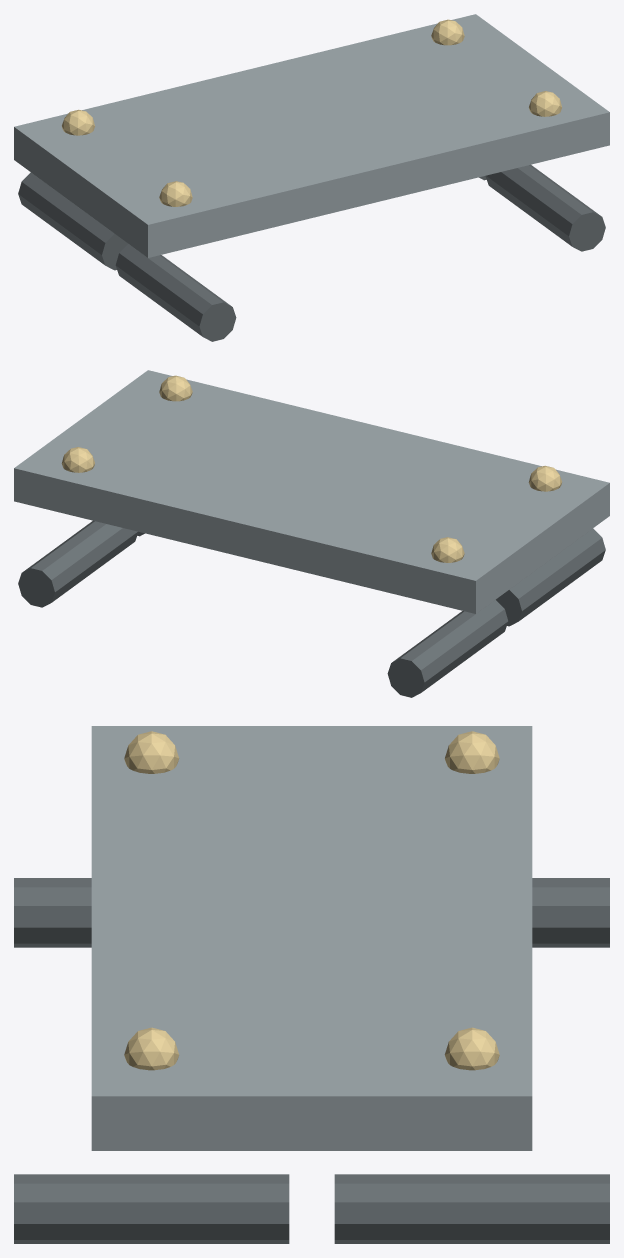
File: industrial_coffee_table.glb
3 views of the same model, one above another, from view 1: azimuth 30°, elevation 25°; view 2: azimuth 150°, elevation 25°; view 3: azimuth 270°, elevation 25° (orthographic). The views are drawn at different scales.
Visible parts, largest first — view 1: part_00, part_02, part_04, part_01, part_07, part_05, part_08, part_06; view 2: part_00, part_01, part_03, part_02, part_08, part_06, part_07, part_05; view 3: part_00, part_03, part_04, part_01, part_02, part_07, part_08, part_05, part_06.
Part boxes in pixels (<box>): part_00: <box>14,14,609,257</box>; part_02: <box>115,244,236,341</box>; part_04: <box>485,164,605,251</box>; part_01: <box>18,172,127,270</box>; part_07: <box>431,19,464,45</box>; part_05: <box>62,109,95,135</box>; part_08: <box>529,91,562,116</box>; part_06: <box>159,181,192,206</box>; part_00: <box>14,370,609,613</box>; part_01: <box>387,600,508,697</box>; part_03: <box>18,520,138,607</box>; part_02: <box>496,528,605,626</box>; part_08: <box>159,375,192,401</box>; part_06: <box>528,465,561,491</box>; part_07: <box>61,447,94,472</box>; part_05: <box>431,537,464,562</box>; part_00: <box>91,726,532,1150</box>; part_03: <box>334,1174,609,1243</box>; part_04: <box>14,1174,289,1243</box>; part_01: <box>532,878,609,947</box>; part_02: <box>14,878,91,947</box>; part_07: <box>444,1027,499,1070</box>; part_08: <box>124,1027,179,1070</box>; part_05: <box>444,731,499,773</box>; part_06: <box>124,731,179,773</box>.
Bounding box in the file's own units: 1.75 × 0.4616 × 1.19.
